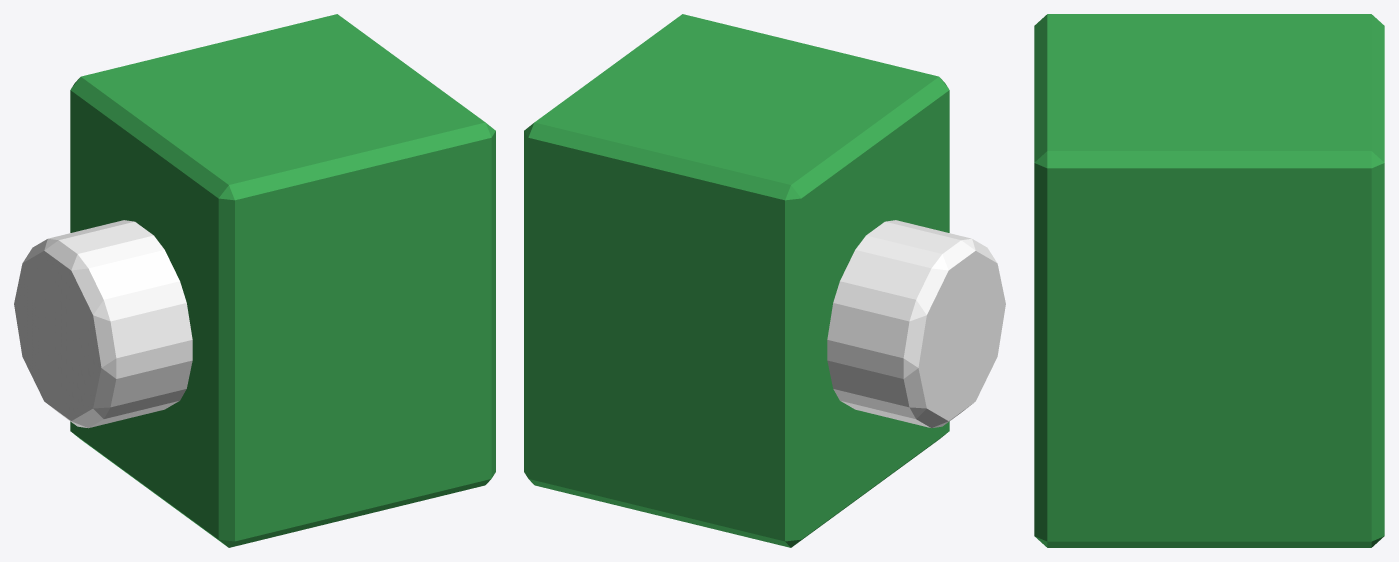
The model's file is laser_receiver.glb.
3 renders of one model, left to right at view 1: azimuth 30°, elevation 25°; view 2: azimuth 150°, elevation 25°; view 3: azimuth 270°, elevation 25°, orthographic. The views are drawn at different scales.
Parts seen in each view (by area): view 1: laser_receiver; view 2: laser_receiver; view 3: laser_receiver.
Part boxes in pixels (x1,y1,x2,y2): laser_receiver: (14,14,495,547); laser_receiver: (524,14,1005,547); laser_receiver: (1034,14,1384,547).
Size of the model in its own units: 0.21 by 0.2 by 0.16.
